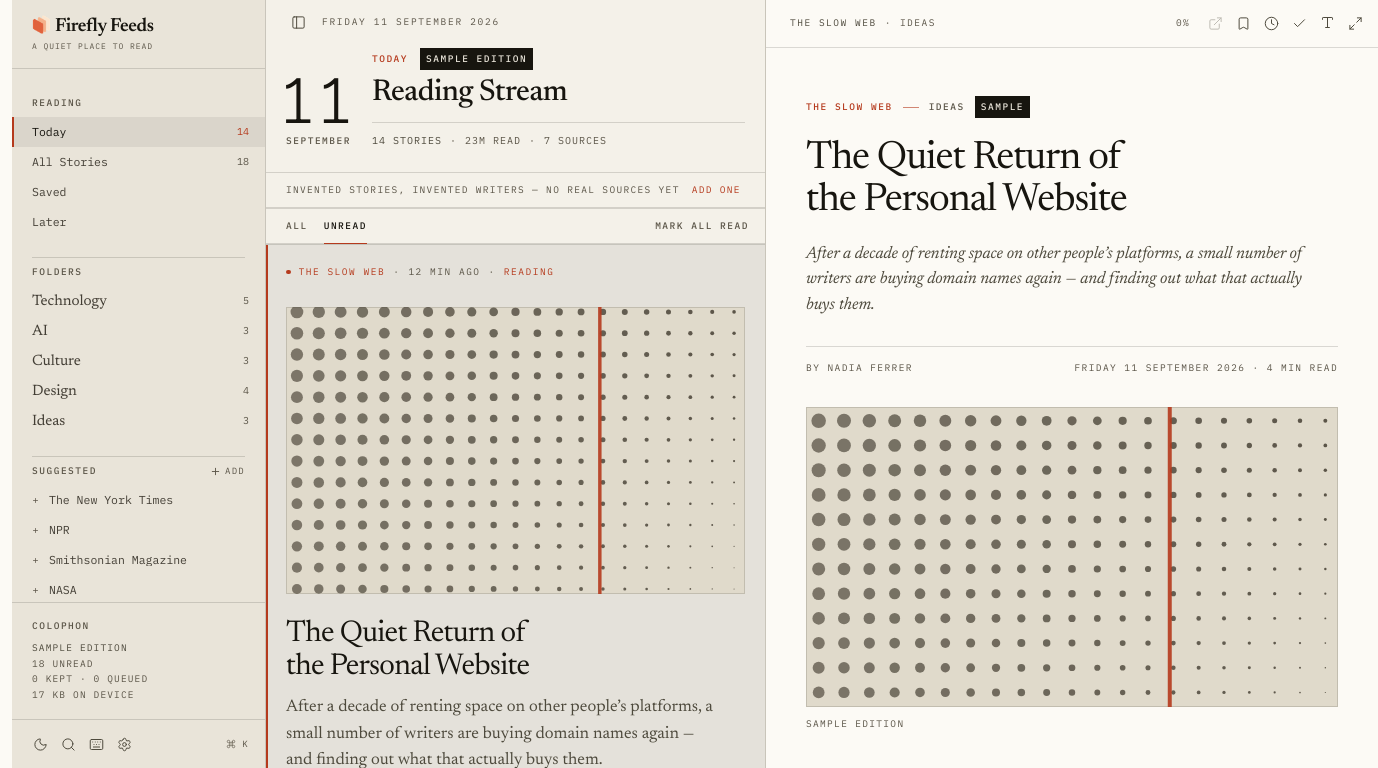
Test: text size › exposes exactly one menu, not one per toolbar
Expected: the heading "Reading Stream" is shown, [372,78,567,108]
Click the button named "Text size" at (1327, 22), box [1314,9,1340,35]
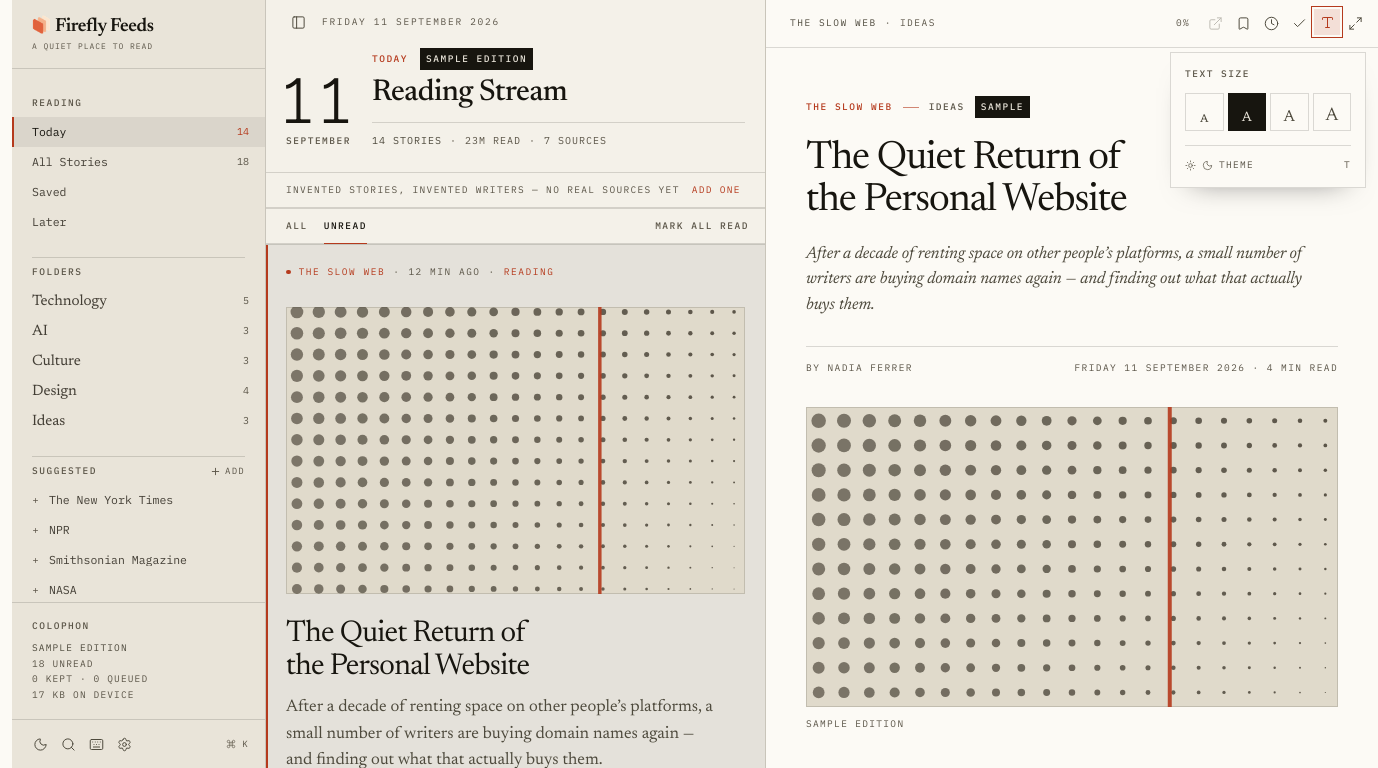
Expected: the number of buttons labelled "A" is 4, [1185,93,1224,131]; [1228,93,1266,131]; [1270,93,1308,131]; [1312,93,1351,131]
